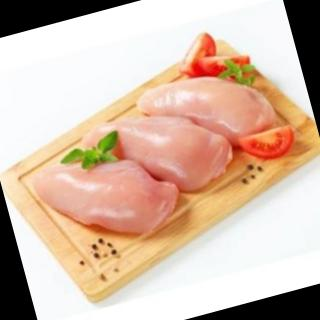Ayam: (80, 93, 241, 216), (32, 143, 185, 255), (135, 61, 277, 157)
